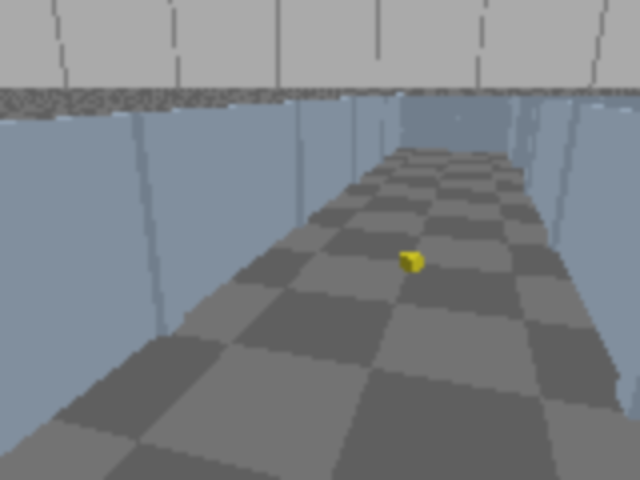puck: (399, 251, 425, 273)
